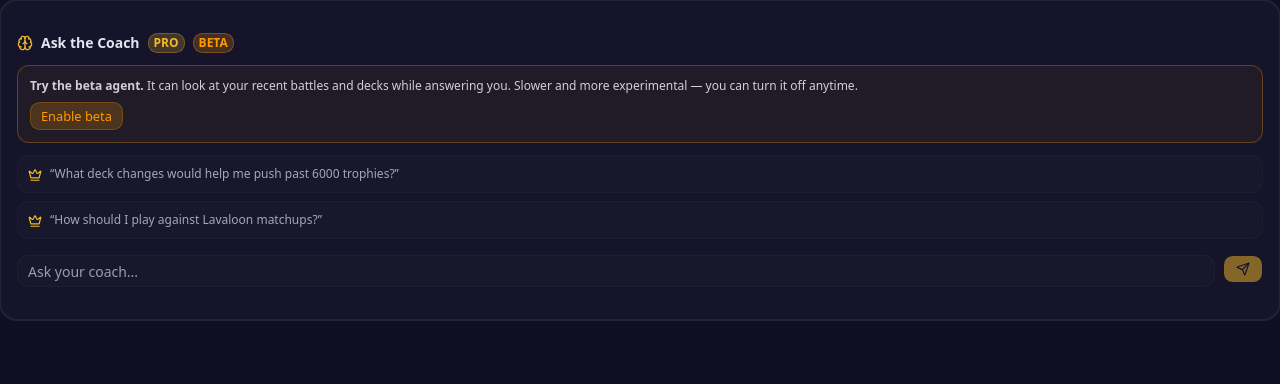
Test case: CoachChat › beta opt-in flow (AG7) › sends via the legacy single-shot path when Pro user has not opted in
Expected: the button "Enable beta" is shown, [30, 102, 123, 130]
In the field with placeholder "Ask your coach...": (616, 271) [17, 255, 1215, 287], type "hi"
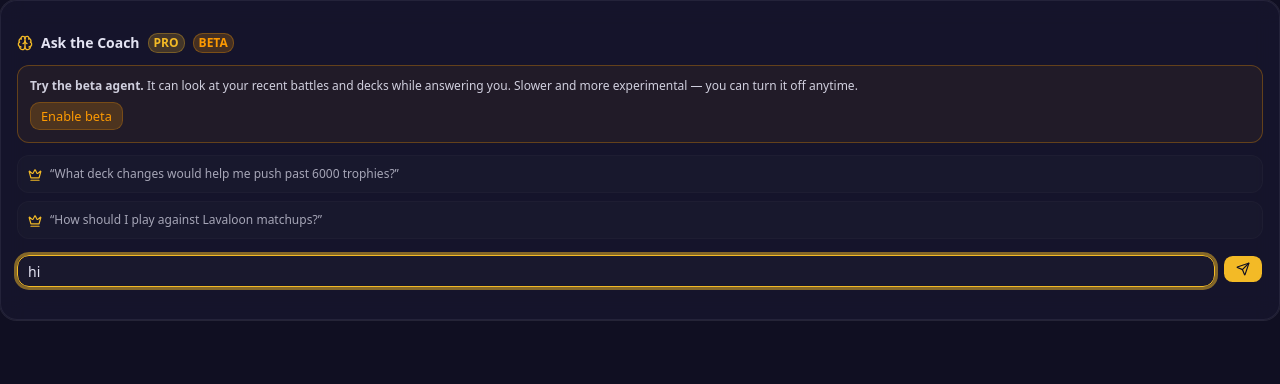
Click the button named "send coach question": (1243, 269) [1223, 255, 1263, 283]
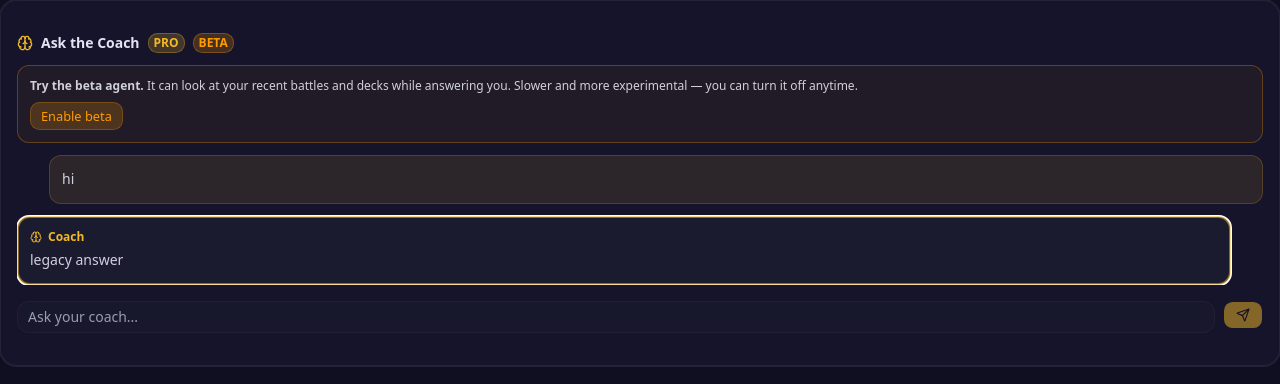
Result: the text "legacy answer" is shown at [30, 250, 123, 269]
